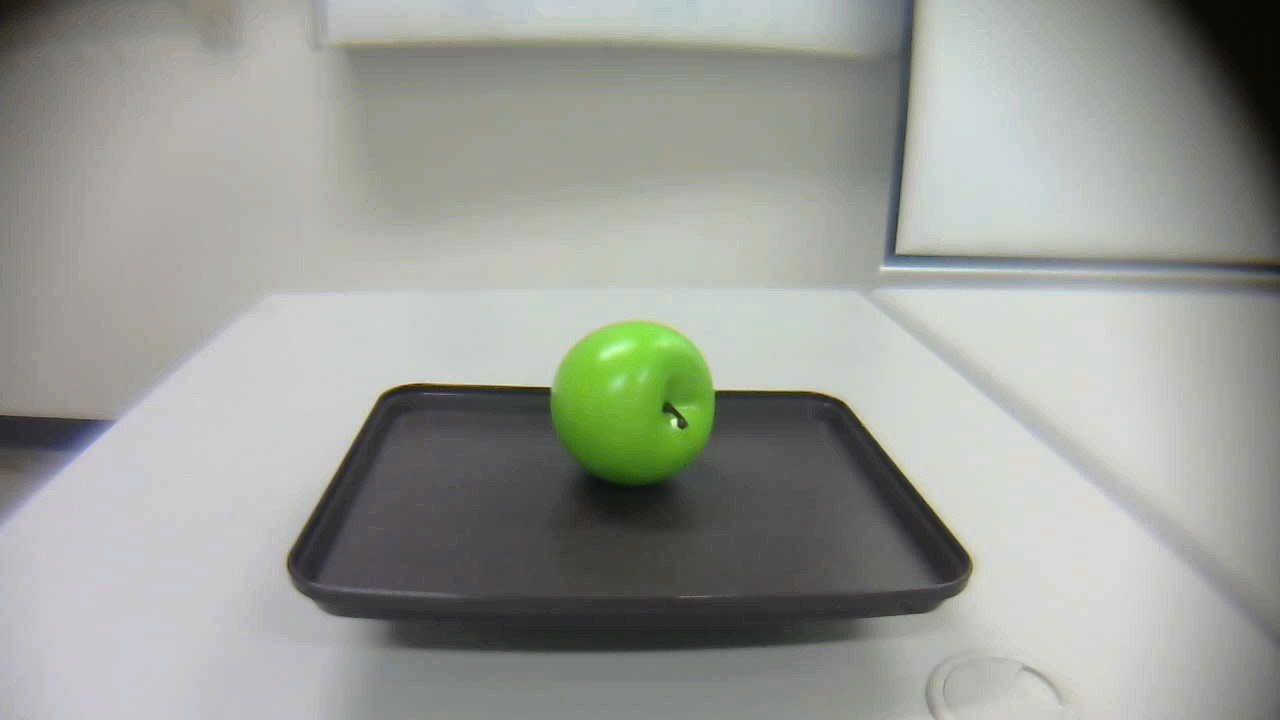green apple: (549, 318, 718, 492)
